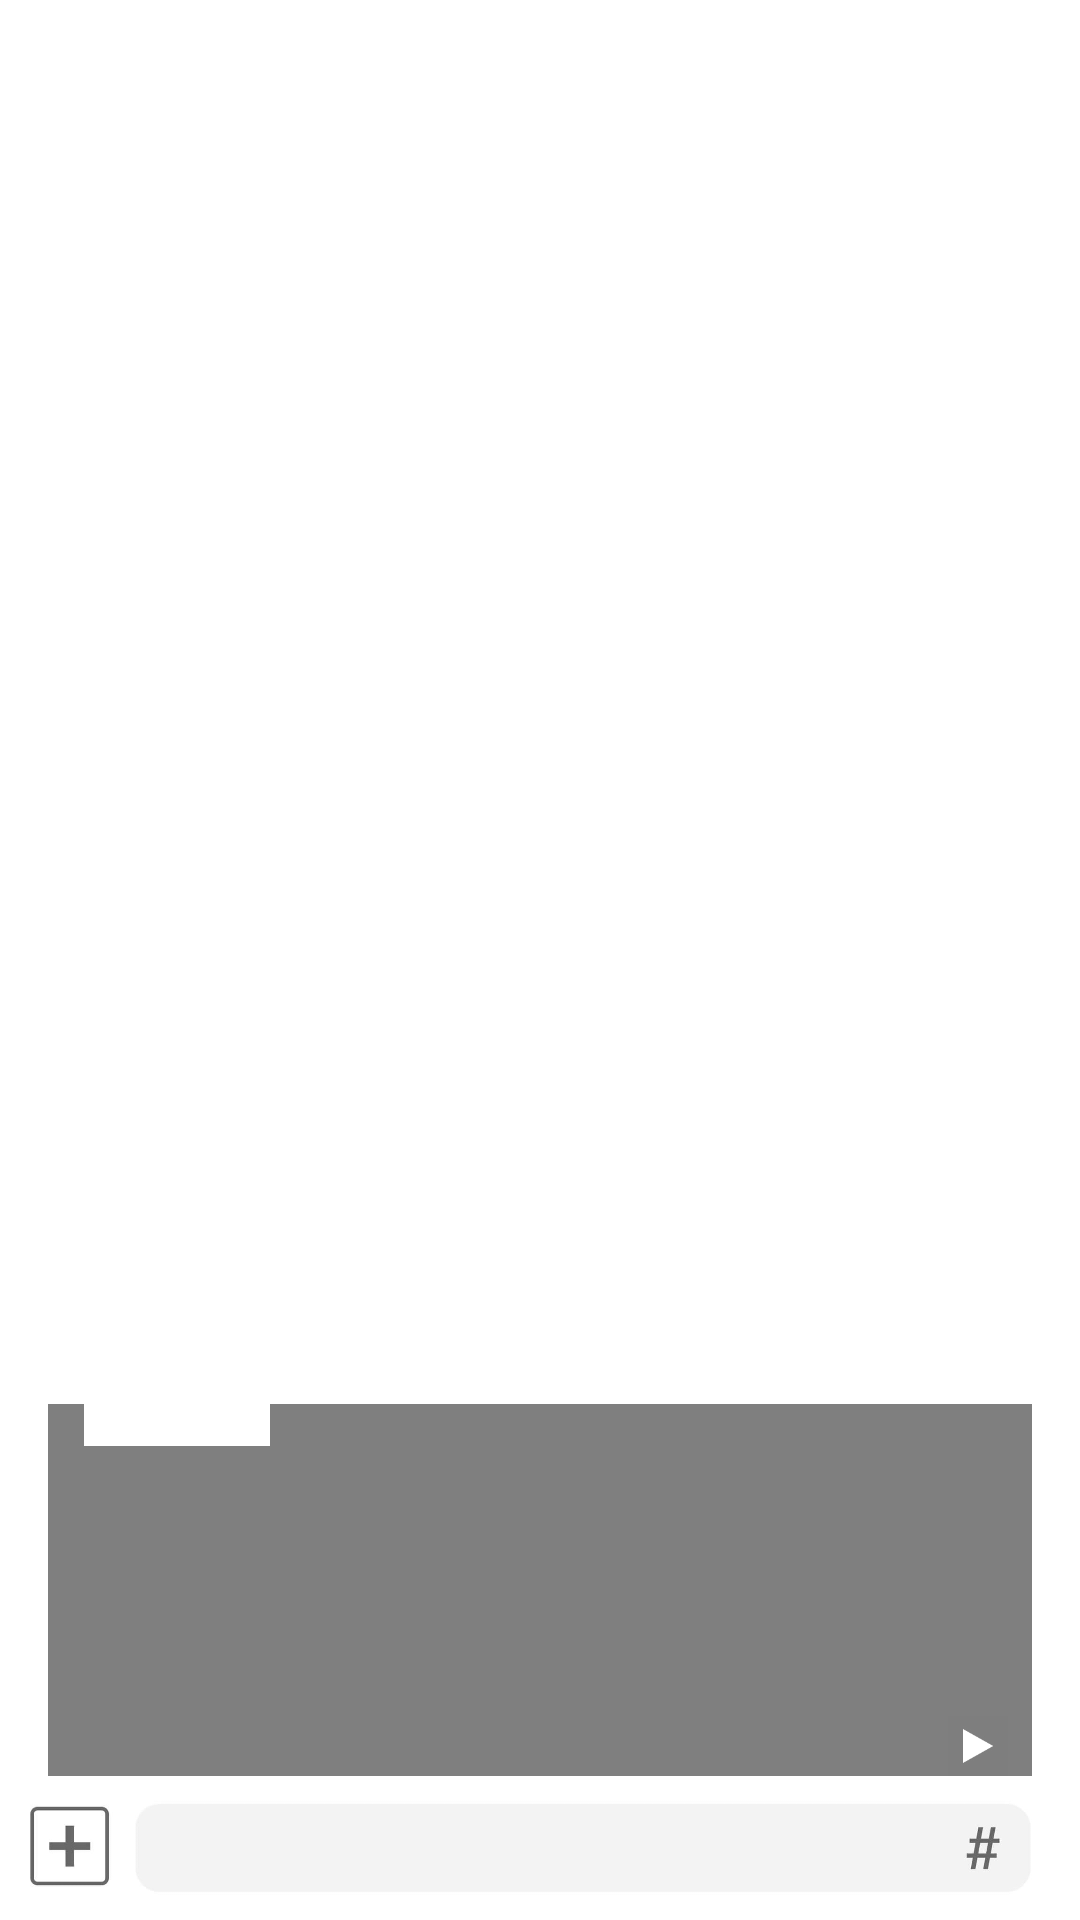

Point at icon controls on the screen. Image size 1080 x 1920, points as (x=x, y=y).
play: (x=978, y=1746)
